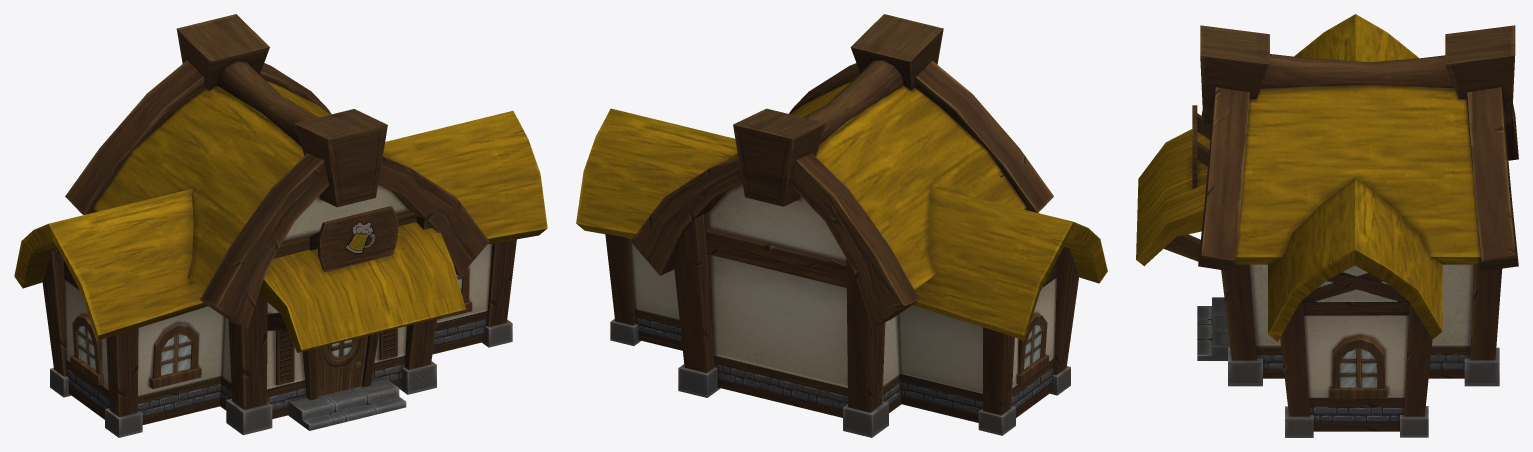
Rendered from modelBuilding_QuestBar.fbx.
3 renders of one model, left to right at view 1: azimuth 30°, elevation 25°; view 2: azimuth 150°, elevation 25°; view 3: azimuth 270°, elevation 25°, orthographic. The views are drawn at different scales.
Visible parts, largest first — view 1: modelBuilding_QuestBar; view 2: modelBuilding_QuestBar; view 3: modelBuilding_QuestBar.
Part boxes in pixels (x1,y1,x2,y2): modelBuilding_QuestBar: (14, 14, 547, 437); modelBuilding_QuestBar: (576, 14, 1107, 437); modelBuilding_QuestBar: (1136, 14, 1518, 437).
Bounding box in the file's own units: 150 × 88.68 × 103.
